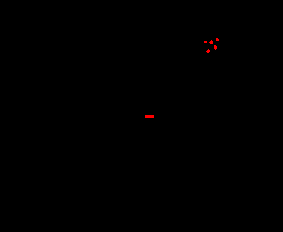Target: (145, 115, 154, 118), (209, 40, 213, 44), (206, 49, 210, 53), (214, 45, 217, 50), (216, 38, 219, 41), (204, 41, 207, 43)
